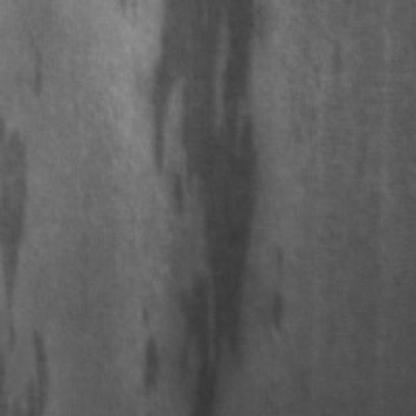inclusion: (138, 0, 274, 408), (0, 115, 42, 344), (252, 223, 293, 348), (13, 320, 56, 414), (19, 35, 50, 102)
